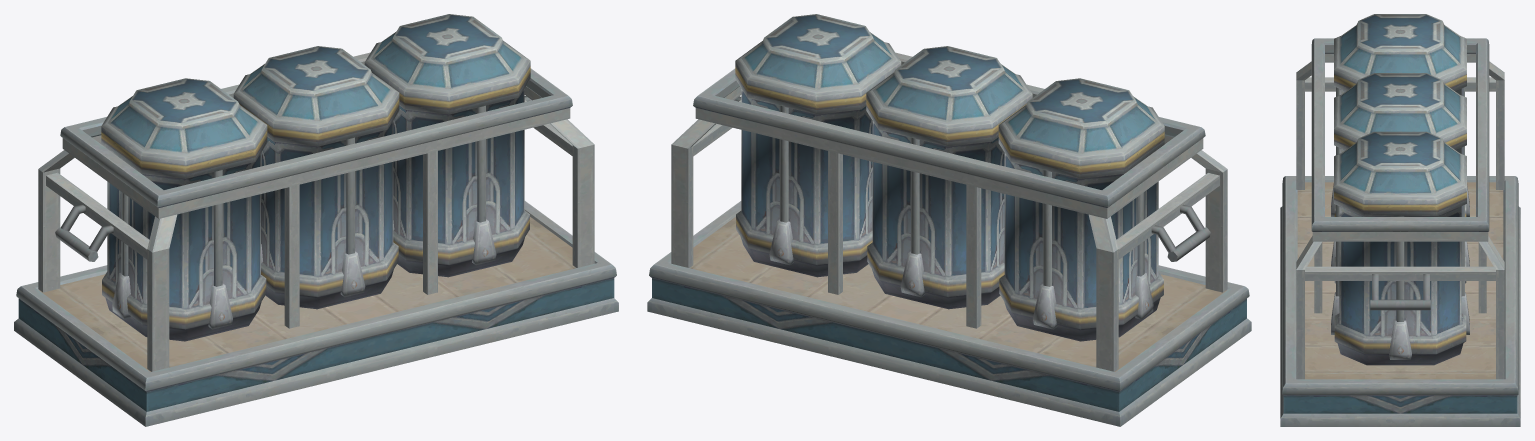
The model's file is Homeworld_Exterior_Fd_Decoration_Prop_Jizhuangxiang_01_Vo.fbx.
The picture shows the model from 3 angles, left to right: view 1: azimuth 30°, elevation 25°; view 2: azimuth 150°, elevation 25°; view 3: azimuth 270°, elevation 25°; orthographic projection. The views are drawn at different scales.
Visible parts, largest first — view 1: Area_Fd_Prop_Common_Jizhuangxiang_05_Vo, Area_Fd_Prop_Common_Jizhuangxiang_03_Vo (2), Area_Fd_Prop_Common_Jizhuangxiang_03_Vo, Area_Fd_Prop_Common_Jizhuangxiang_03_Vo (1); view 2: Area_Fd_Prop_Common_Jizhuangxiang_05_Vo, Area_Fd_Prop_Common_Jizhuangxiang_03_Vo (2), Area_Fd_Prop_Common_Jizhuangxiang_03_Vo, Area_Fd_Prop_Common_Jizhuangxiang_03_Vo (1); view 3: Area_Fd_Prop_Common_Jizhuangxiang_05_Vo, Area_Fd_Prop_Common_Jizhuangxiang_03_Vo (1), Area_Fd_Prop_Common_Jizhuangxiang_03_Vo (2), Area_Fd_Prop_Common_Jizhuangxiang_03_Vo.
Part boxes in pixels (x1,y1,x2,y2): Area_Fd_Prop_Common_Jizhuangxiang_05_Vo: (14,52,618,426); Area_Fd_Prop_Common_Jizhuangxiang_03_Vo (2): (101,78,267,341); Area_Fd_Prop_Common_Jizhuangxiang_03_Vo: (233,46,399,309); Area_Fd_Prop_Common_Jizhuangxiang_03_Vo (1): (364,14,530,277); Area_Fd_Prop_Common_Jizhuangxiang_05_Vo: (647,52,1251,426); Area_Fd_Prop_Common_Jizhuangxiang_03_Vo (2): (998,78,1164,341); Area_Fd_Prop_Common_Jizhuangxiang_03_Vo: (866,46,1032,309); Area_Fd_Prop_Common_Jizhuangxiang_03_Vo (1): (735,14,901,277); Area_Fd_Prop_Common_Jizhuangxiang_05_Vo: (1280,38,1520,426); Area_Fd_Prop_Common_Jizhuangxiang_03_Vo (1): (1331,131,1469,365); Area_Fd_Prop_Common_Jizhuangxiang_03_Vo (2): (1331,14,1469,216); Area_Fd_Prop_Common_Jizhuangxiang_03_Vo: (1331,73,1469,283).
Size of the model in its own units: 4.11 by 2.03 by 1.91.
1 material, 1 textured.
